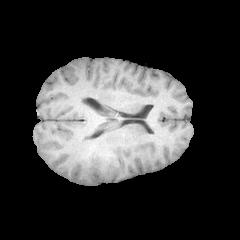glioma: (79, 141, 113, 176)
